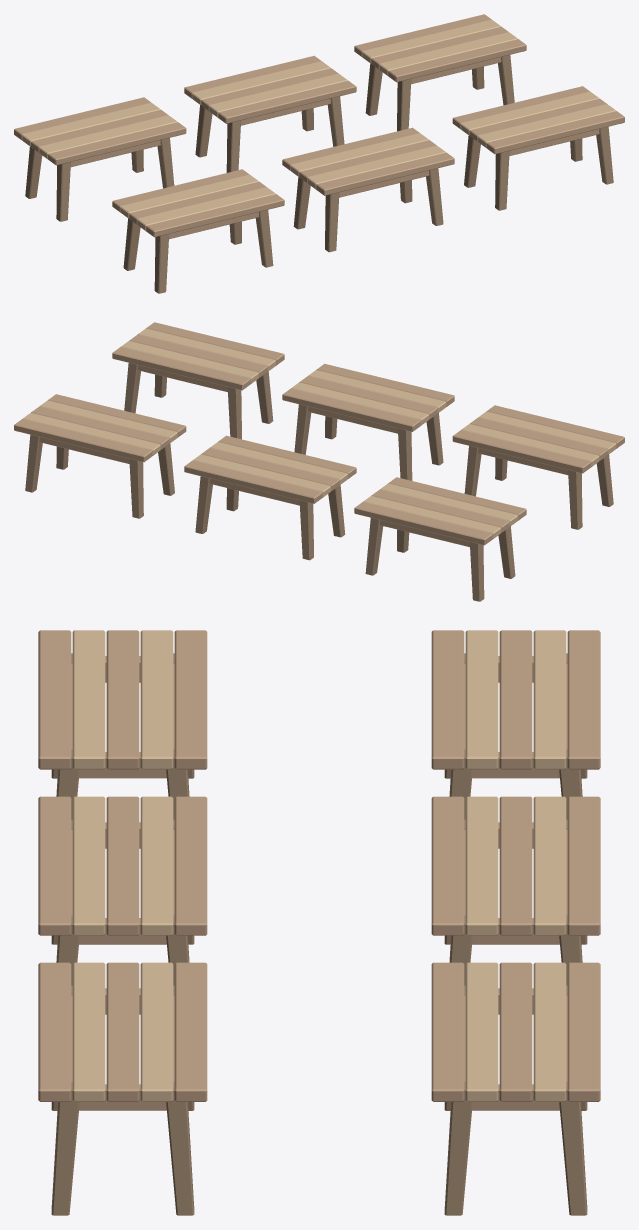
The model's file is a-low-poly-wooden-railing-8-metres-long-512-lib.glb.
3 views of the same model, one above another, from view 1: azimuth 30°, elevation 25°; view 2: azimuth 150°, elevation 25°; view 3: azimuth 270°, elevation 25° (orthographic). The views are drawn at different scales.
Parts seen in each view (by area): view 1: table_3_table_top_plank, table_4_table_top_plank, table_6_table_top_plank, table_2_table_top_plank, table_1_table_top_plank, table_5_table_top_plank, table_6_table_top_plank.004, table_2_table_top_plank.003, table_4_table_top_plank.001, table_2_table_top_plank.001, table_4_table_top_plank.003, table_6_table_top_plank.002 (+42 smaller); view 2: table_1_table_top_plank.004, table_3_table_top_plank.004, table_6_table_top_plank.004, table_5_table_top_plank.004, table_4_table_top_plank.004, table_2_table_top_plank.004, table_3_table_top_plank, table_1_table_top_plank.003, table_5_table_top_plank.001, table_1_table_top_plank.001, table_3_table_top_plank.002, table_5_table_top_plank.003 (+42 smaller); view 3: table_3_table_top_plank.001, table_3_table_top_plank, table_6_table_top_plank.004, table_6_table_top_plank.003, table_3_table_top_plank.004, table_3_table_top_plank.003, table_3_table_top_plank.002, table_6_table_top_plank.002, table_6_table_top_plank.001, table_6_table_top_plank, table_2_table_top_plank.004, table_2_table_top_plank.003 (+28 smaller).
Part boxes in pixels (x1,y1,x2,y2): table_3_table_top_plank: [388, 39, 526, 82]; table_4_table_top_plank: [146, 194, 284, 237]; table_6_table_top_plank: [486, 111, 624, 154]; table_2_table_top_plank: [218, 80, 356, 123]; table_1_table_top_plank: [48, 122, 186, 165]; table_5_table_top_plank: [316, 152, 454, 195]; table_6_table_top_plank.004: [452, 86, 590, 129]; table_2_table_top_plank.003: [192, 62, 330, 104]; table_4_table_top_plank.001: [137, 188, 275, 230]; table_2_table_top_plank.001: [209, 74, 347, 117]; table_4_table_top_plank.003: [120, 175, 258, 218]; table_6_table_top_plank.002: [469, 98, 607, 141]; table_1_table_top_plank.004: [354, 502, 492, 545]; table_3_table_top_plank.004: [14, 419, 152, 462]; table_6_table_top_plank.004: [112, 347, 250, 390]; table_5_table_top_plank.004: [282, 388, 420, 431]; table_4_table_top_plank.004: [452, 430, 590, 473]; table_2_table_top_plank.004: [184, 460, 322, 503]; table_3_table_top_plank: [48, 394, 186, 437]; table_1_table_top_plank.003: [363, 496, 501, 538]; table_5_table_top_plank.001: [308, 370, 446, 412]; table_1_table_top_plank.001: [380, 483, 518, 526]; table_3_table_top_plank.002: [31, 406, 169, 449]; table_5_table_top_plank.003: [291, 382, 429, 425]; table_3_table_top_plank.001: [465, 962, 498, 1101]; table_3_table_top_plank: [431, 962, 464, 1101]; table_6_table_top_plank.004: [174, 962, 207, 1101]; table_6_table_top_plank.003: [140, 962, 173, 1101]; table_3_table_top_plank.004: [567, 962, 600, 1101]; table_3_table_top_plank.003: [533, 962, 566, 1101]; table_3_table_top_plank.002: [499, 962, 532, 1101]; table_6_table_top_plank.002: [106, 962, 139, 1101]; table_6_table_top_plank.001: [72, 962, 105, 1101]; table_6_table_top_plank: [38, 962, 71, 1101]; table_2_table_top_plank.004: [567, 796, 600, 935]; table_2_table_top_plank.003: [533, 796, 566, 935].
Bounding box in the file's own units: 7.2 × 0.975 × 3.72.
